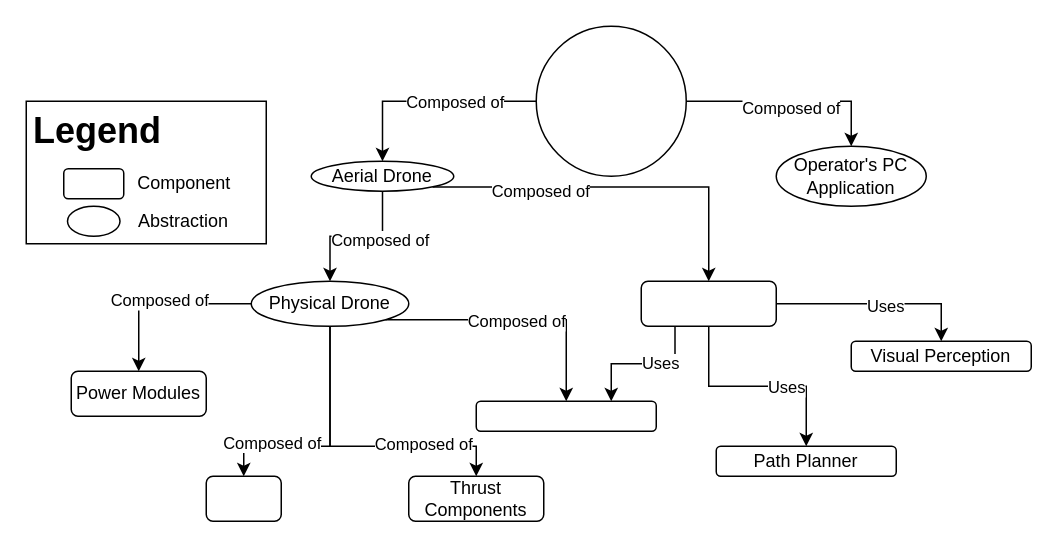
Image size: 1058x548. Some labels were removed from this diagram. Here are the shapes that lost their labels. From the top down, the centre of each, then its label:
At pixel 610 100: "ParkingLotHawk".
At pixel 708 303: "Main Drone Application".
At pixel 565 415: "Flight Operations".
At pixel 243 498: "Frame".
